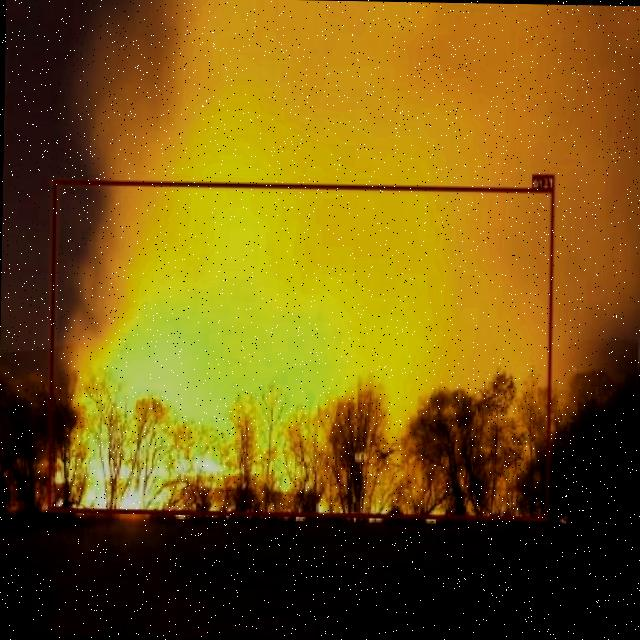fire: (47, 178, 555, 520)
